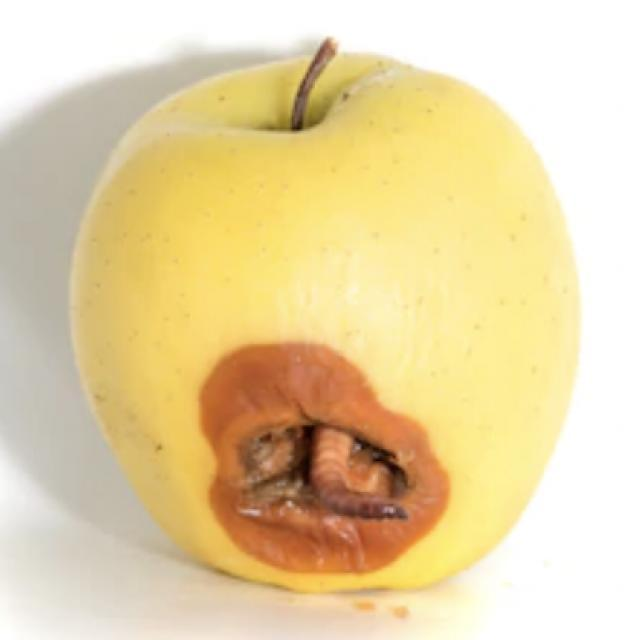Rotten: (105, 65, 588, 623)
